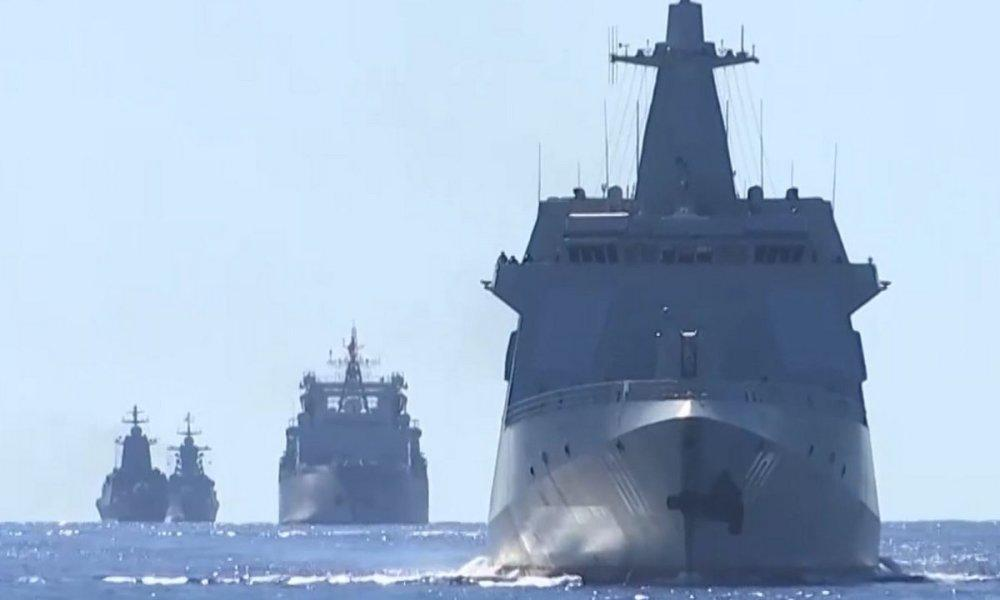MIL_Ship: (484, 0, 896, 582), (276, 323, 433, 532), (91, 400, 167, 525), (162, 408, 220, 524)
